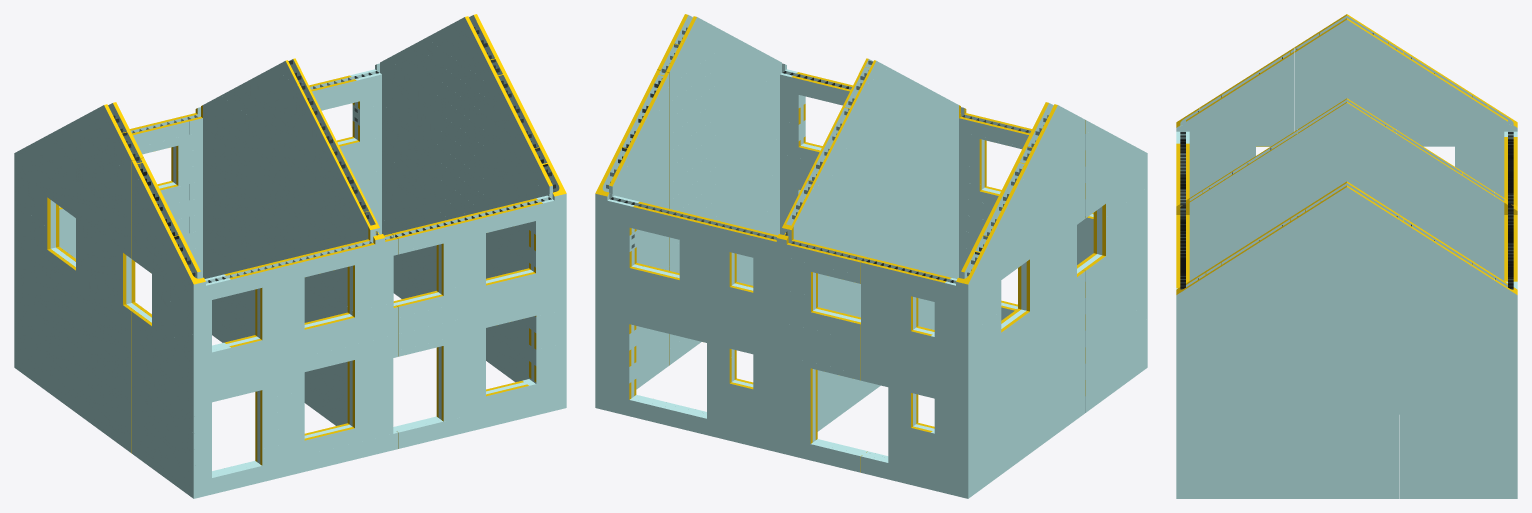
The model's file is Guiness_Partnership_Block_1.glb.
3 renders of one model, left to right at view 1: azimuth 30°, elevation 25°; view 2: azimuth 150°, elevation 25°; view 3: azimuth 270°, elevation 25°, orthographic. The views are drawn at different scales.
Visible parts, largest first — view 1: Geom3D (×144); view 2: Geom3D (×140); view 3: Geom3D (×128), 3DGeom-8327.
Part boxes in pixels (x1=…): Geom3D (×144): x1=27, y1=24, x2=566, y2=498; Geom3D (×140): x1=595, y1=24, x2=1133, y2=492; Geom3D (×128): x1=1176, y1=20, x2=1517, y2=498; 3DGeom-8327: x1=1180, y1=57, x2=1513, y2=289.
Bounding box in the file's own units: 10.87 × 9.14 × 9.06.
